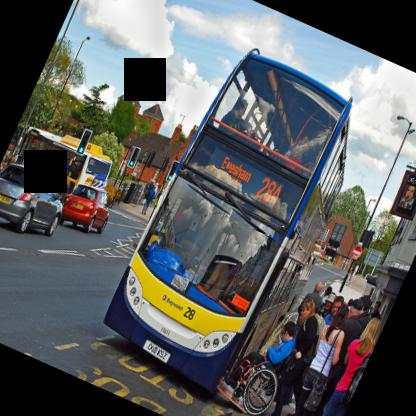backpack: (343, 352, 371, 412), (313, 313, 325, 336)
handbag: (303, 329, 342, 412)
